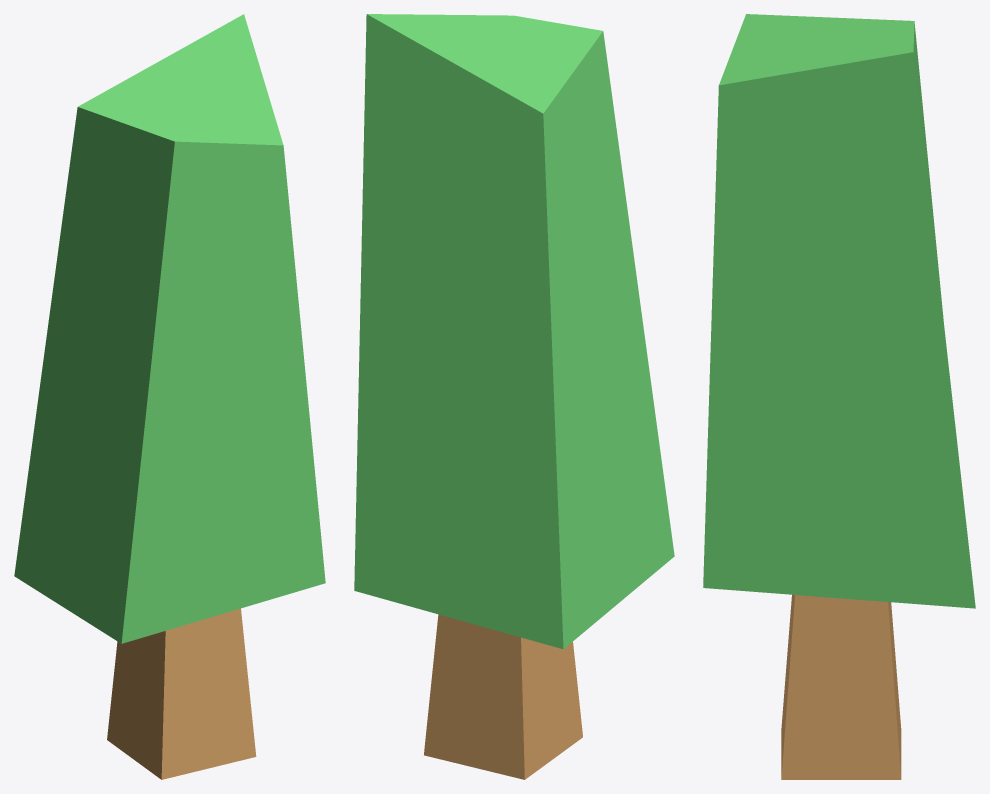
The model's file is tree.fbx.
The picture shows the model from 3 angles, left to right: view 1: azimuth 30°, elevation 25°; view 2: azimuth 150°, elevation 25°; view 3: azimuth 270°, elevation 25°; orthographic projection. The views are drawn at different scales.
Parts seen in each view (by area): view 1: Cube.001, Cube; view 2: Cube.001, Cube; view 3: Cube.001, Cube.
Boxes of the visible parts, <box> form: Cube.001: <box>14,14,325,643</box>; Cube: <box>107,608,256,779</box>; Cube.001: <box>354,14,674,649</box>; Cube: <box>424,614,582,779</box>; Cube.001: <box>703,14,975,608</box>; Cube: <box>781,594,901,779</box>.
Bounding box in the file's own units: 25.8 × 81.76 × 26.81.
